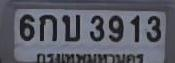1: (130, 14, 139, 41)
3: (145, 15, 160, 41), (89, 14, 103, 40)
6: (19, 13, 34, 40)
9: (108, 14, 123, 41)
A01: (39, 14, 56, 40)
A26: (61, 14, 79, 40)
